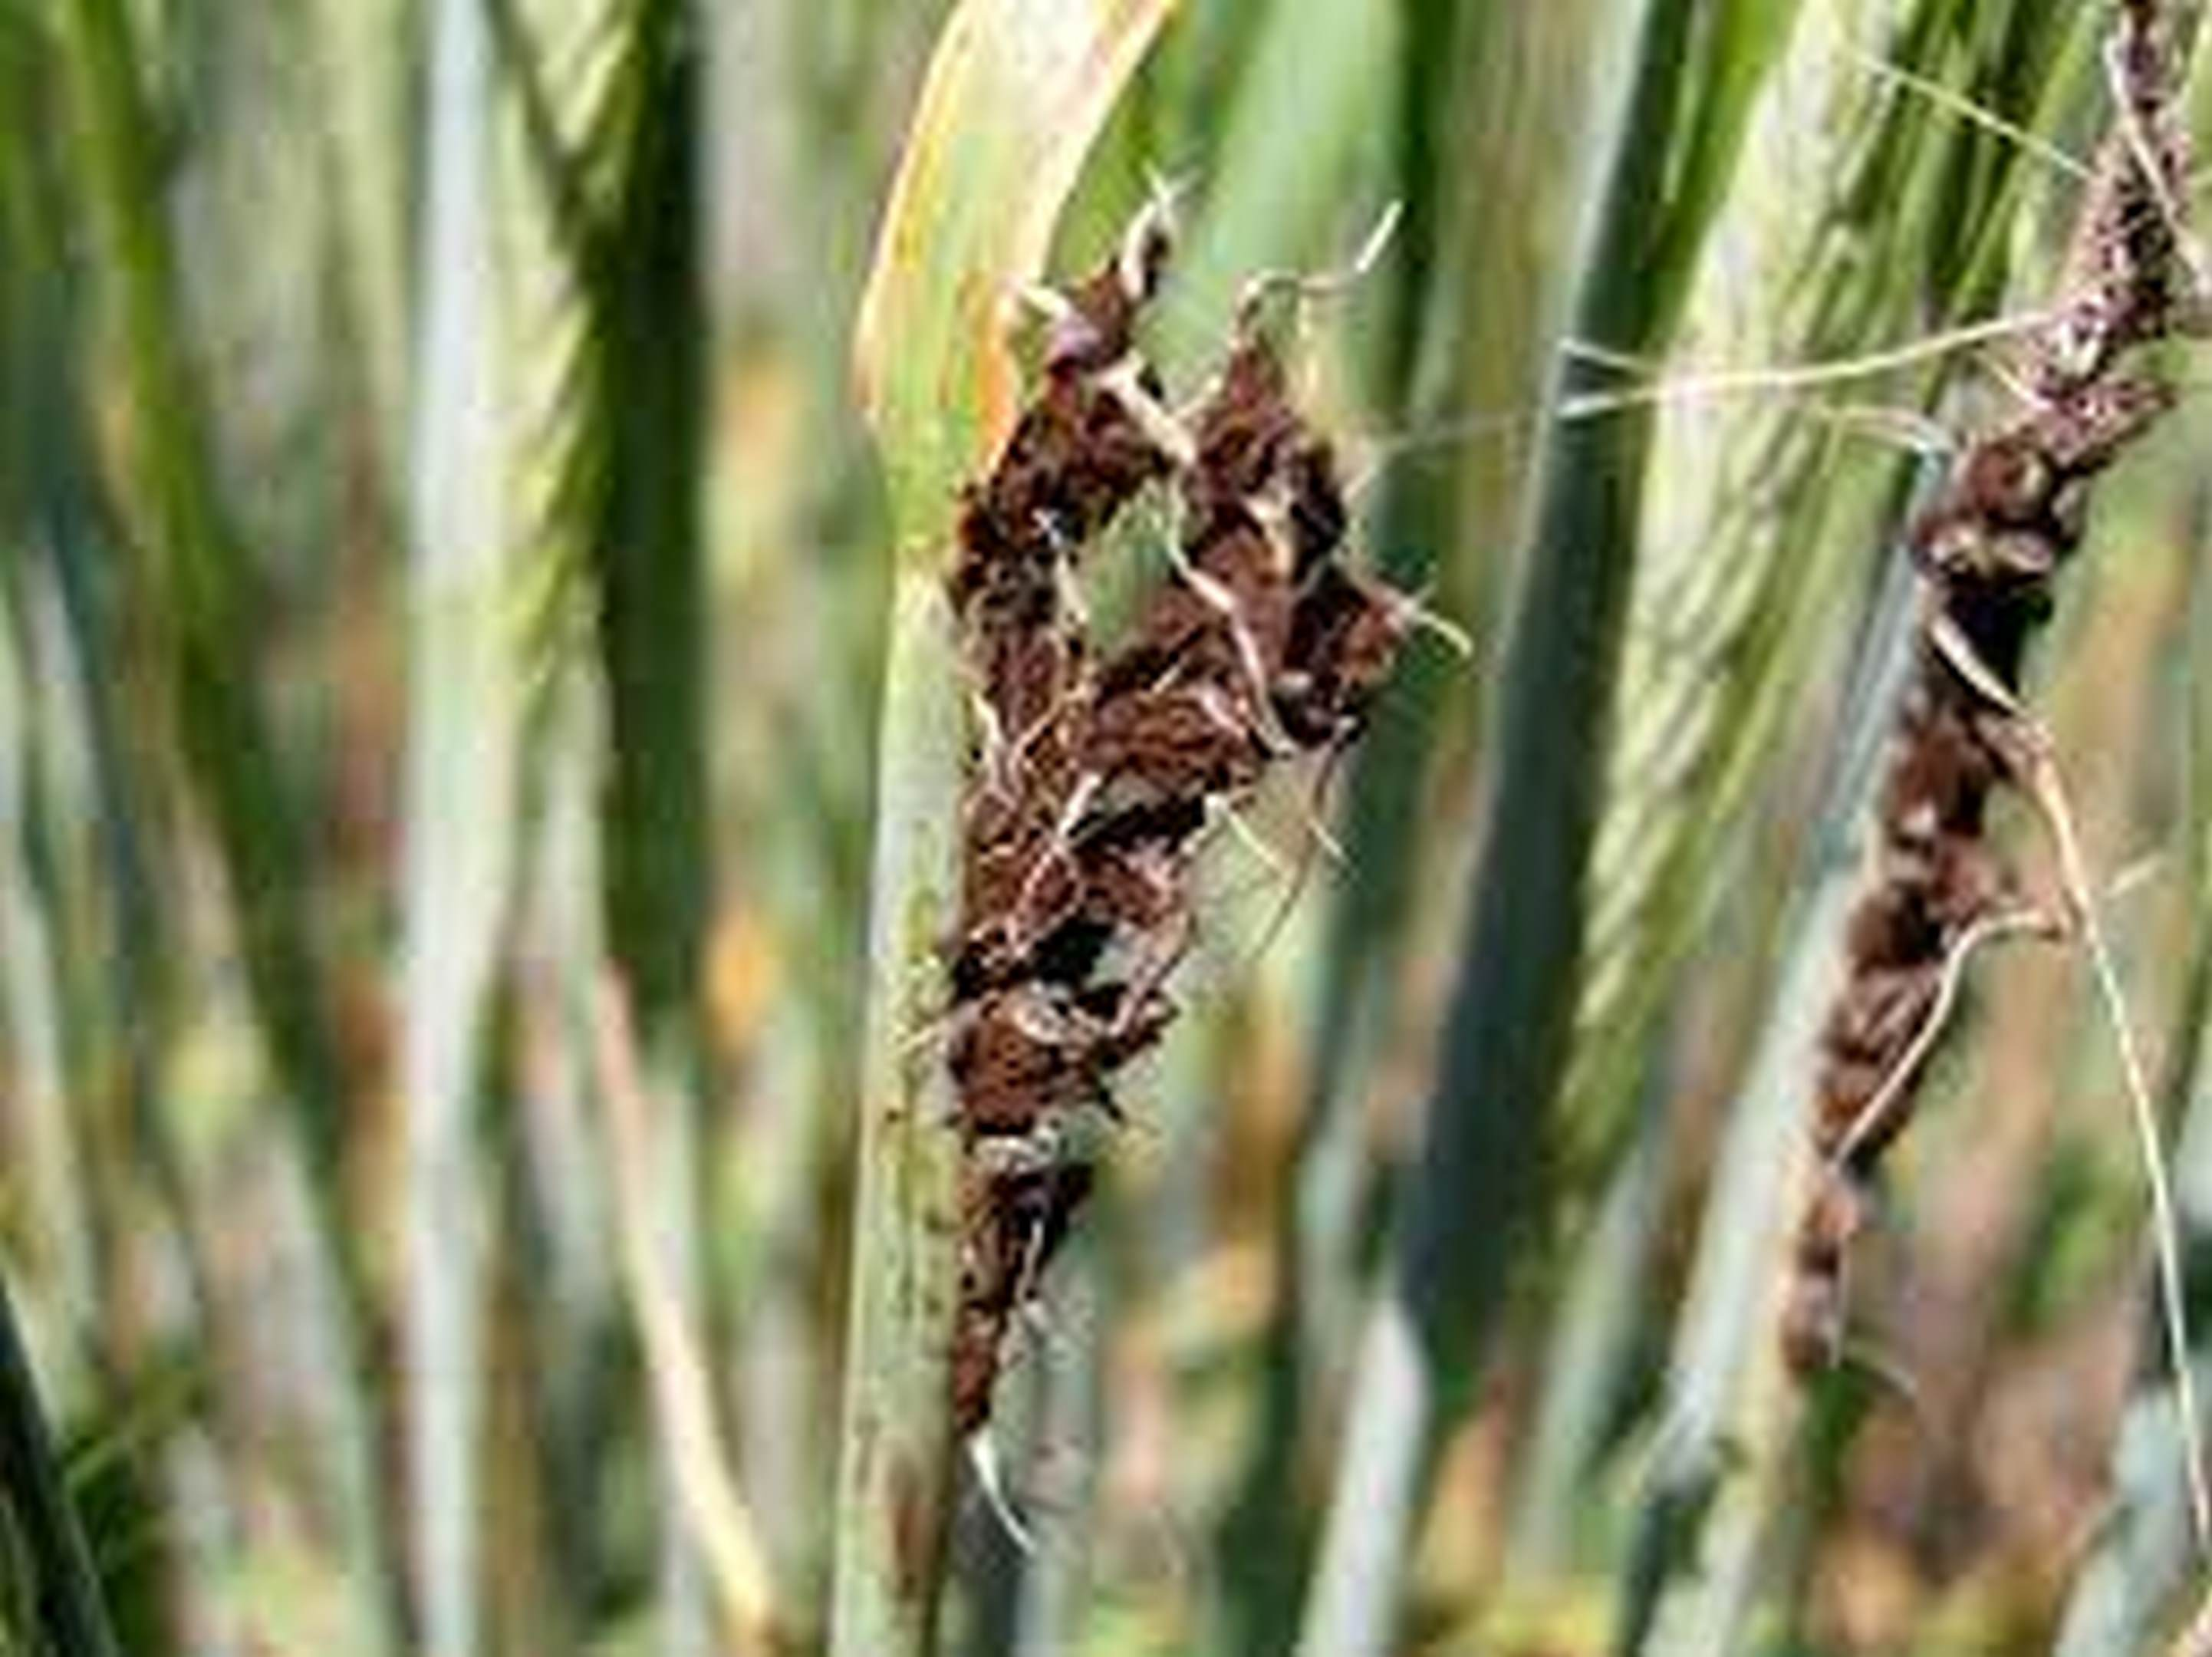Wheat Loose Smut: (900, 233, 1453, 1297)
